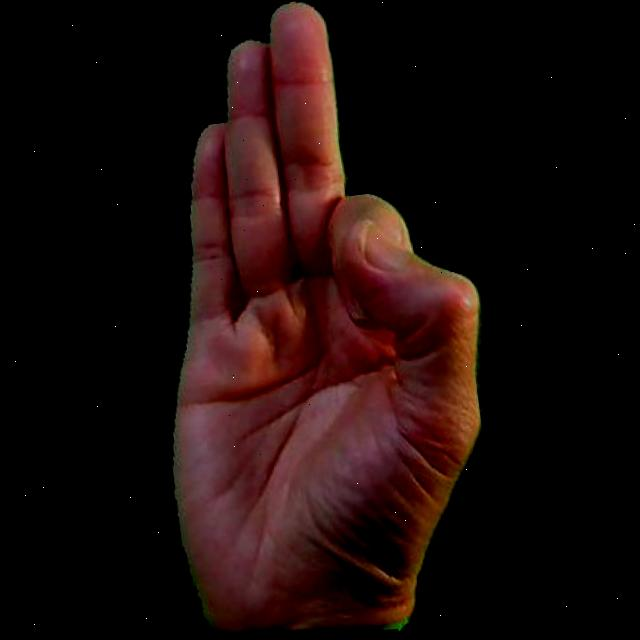f: (112, 0, 522, 640)
